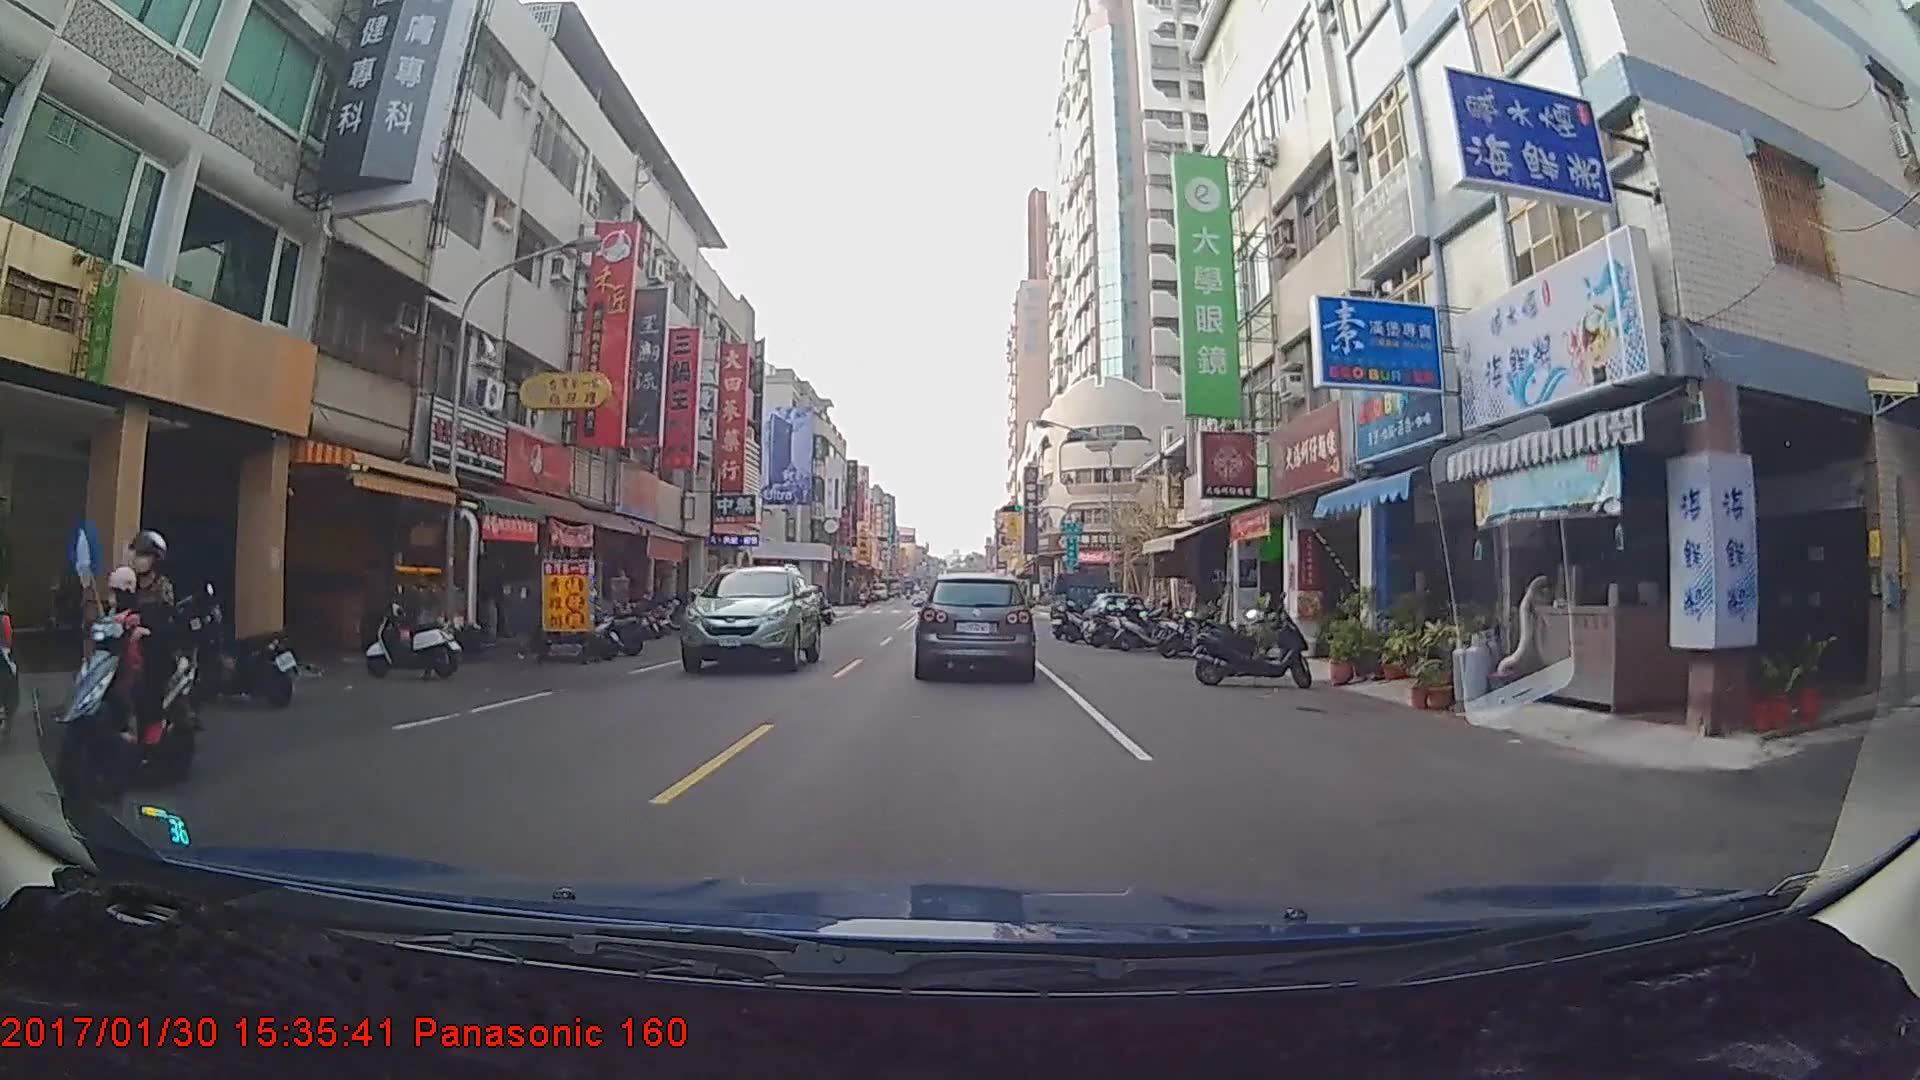rider: (43, 524, 207, 802)
vehicle: (675, 563, 821, 676), (916, 571, 1034, 678), (1052, 571, 1125, 634)
